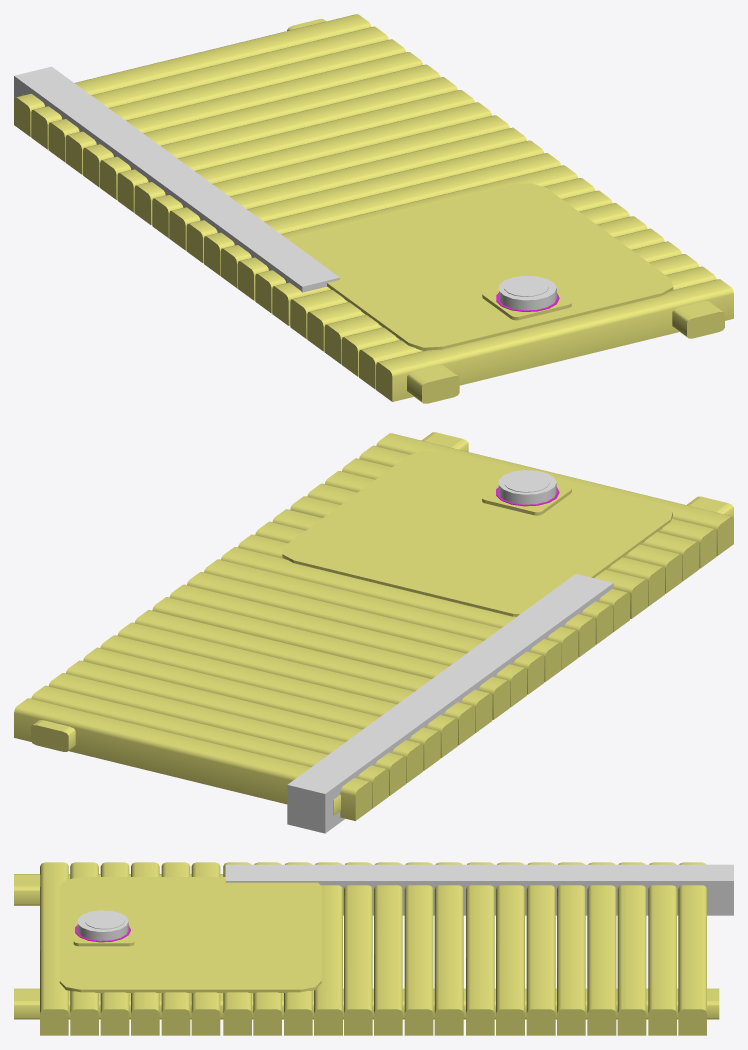
File: Plot.fbx
3 renders of one model, top to bottom at view 1: azimuth 30°, elevation 25°; view 2: azimuth 150°, elevation 25°; view 3: azimuth 270°, elevation 25°, orthographic. The views are drawn at different scales.
Parts seen in each view (by area): view 1: Cube.010, Cube.005, Cube.002, Cutter.001, Cube.003, Cutter; view 2: Cube.010, Cube.005, Cube.002, Cutter.001, Cube.003, Cutter; view 3: Cube.010, Cube.005, Cube.002, Cutter.001, Cube.003, Cutter.
Part boxes in pixels (left/top/right/bottom): Cube.010: left=14, top=14, right=733, bottom=403; Cube.005: left=289, top=183, right=673, bottom=350; Cube.002: left=14, top=66, right=339, bottom=292; Cutter.001: left=499, top=275, right=556, bottom=310; Cube.003: left=482, top=288, right=571, bottom=320; Cutter: left=504, top=277, right=548, bottom=296; Cube.010: left=14, top=432, right=733, bottom=820; Cube.005: left=282, top=450, right=672, bottom=616; Cube.002: left=287, top=574, right=613, bottom=833; Cutter.001: left=498, top=470, right=556, bottom=504; Cube.003: left=482, top=484, right=571, bottom=515; Cutter: left=504, top=473, right=549, bottom=492; Cube.010: left=14, top=862, right=719, bottom=1035; Cube.005: left=59, top=877, right=321, bottom=992; Cube.002: left=225, top=864, right=733, bottom=915; Cutter.001: left=77, top=910, right=128, bottom=940; Cube.003: left=73, top=917, right=134, bottom=946; Cutter: left=85, top=912, right=124, bottom=929.
Bounding box in the file's own units: 884 × 129 × 1830.
